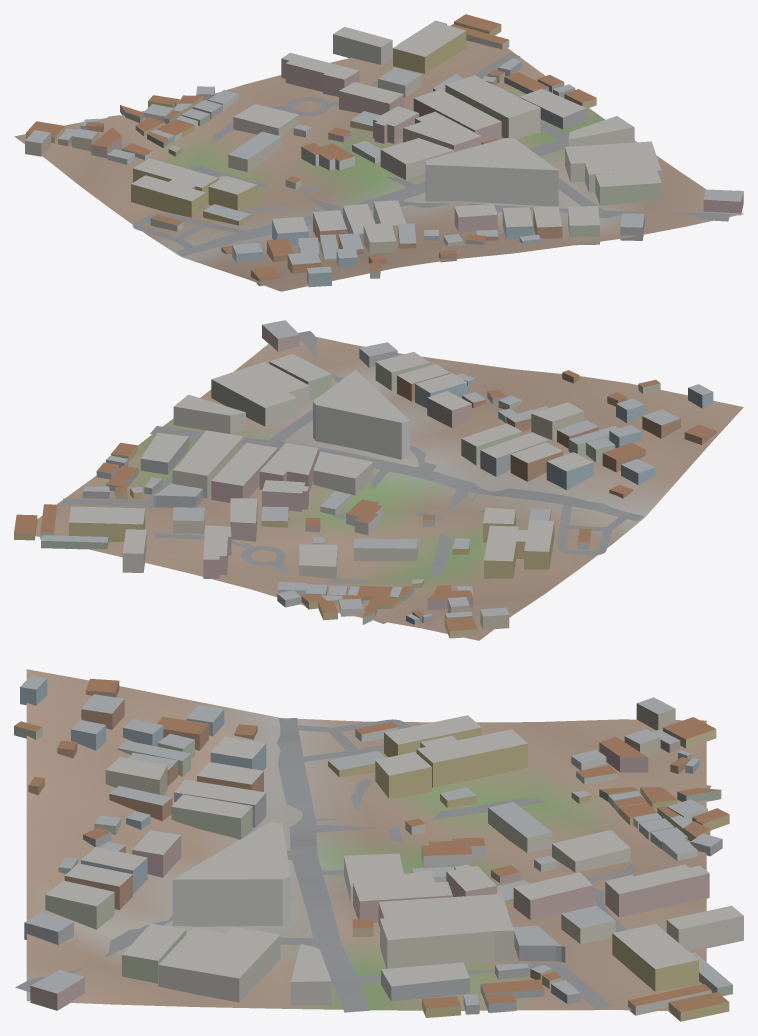
The picture shows the model from 3 angles, top to bottom: view 1: azimuth 30°, elevation 25°; view 2: azimuth 150°, elevation 25°; view 3: azimuth 270°, elevation 25°; orthographic projection. The views are drawn at different scales.
Parts seen in each view (by area): view 1: Lo; view 2: Lo; view 3: Lo.
Boxes of the visible parts, <box> form: Lo: <box>14,14,743,291</box>; Lo: <box>14,320,743,640</box>; Lo: <box>14,669,743,1021</box>.
Bounding box in the file's own units: 269 × 31.98 × 275.
